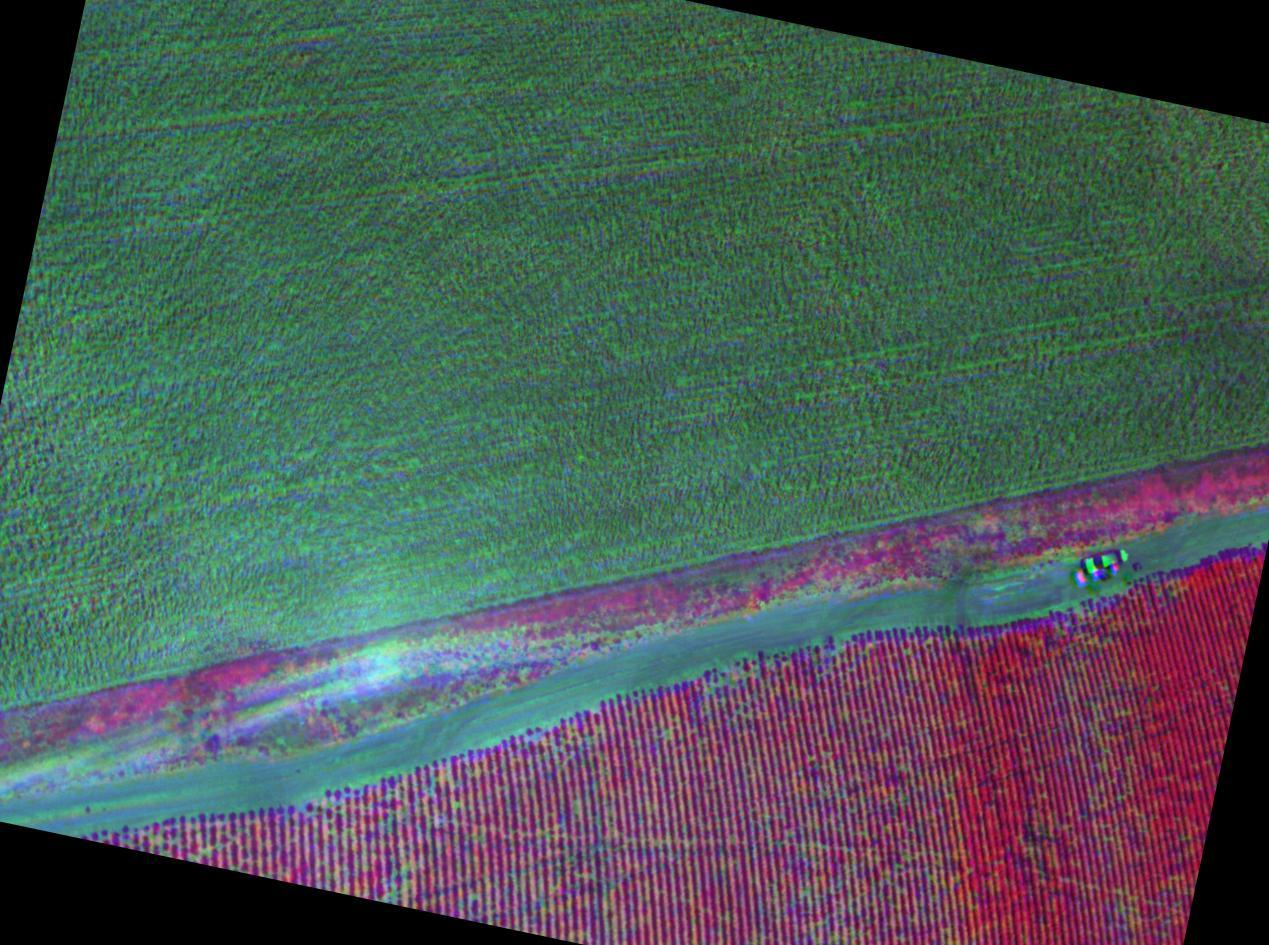dc: (782, 843, 847, 892), (396, 777, 458, 825), (370, 860, 423, 905), (1083, 691, 1130, 740), (165, 830, 239, 861), (706, 668, 765, 705), (301, 796, 352, 829)
